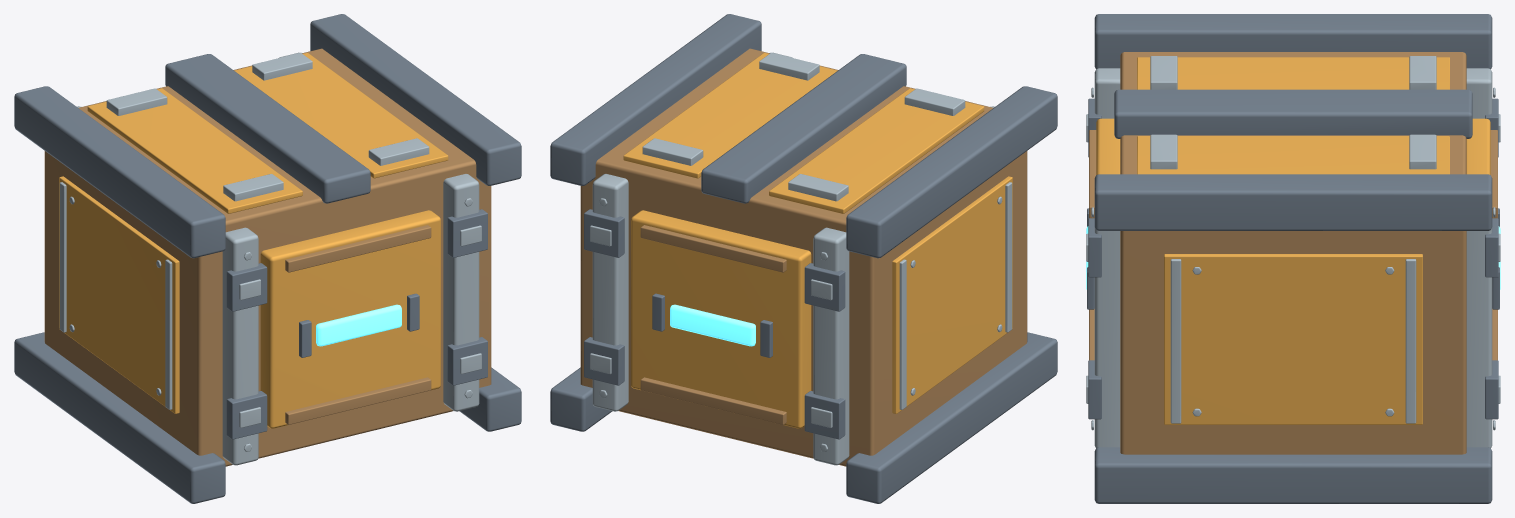
File: cargo-crate.glb
The picture shows the model from 3 angles, left to right: view 1: azimuth 30°, elevation 25°; view 2: azimuth 150°, elevation 25°; view 3: azimuth 270°, elevation 25°; orthographic projection. The views are drawn at different scales.
Parts seen in each view (by area): view 1: cargo-crate; view 2: cargo-crate; view 3: cargo-crate.
Part boxes in pixels (x1,y1,x2,y2): cargo-crate: (14, 14, 521, 503); cargo-crate: (550, 14, 1057, 503); cargo-crate: (1086, 14, 1500, 503).
Size of the model in its own units: 1.26 by 1.04 by 1.23.
